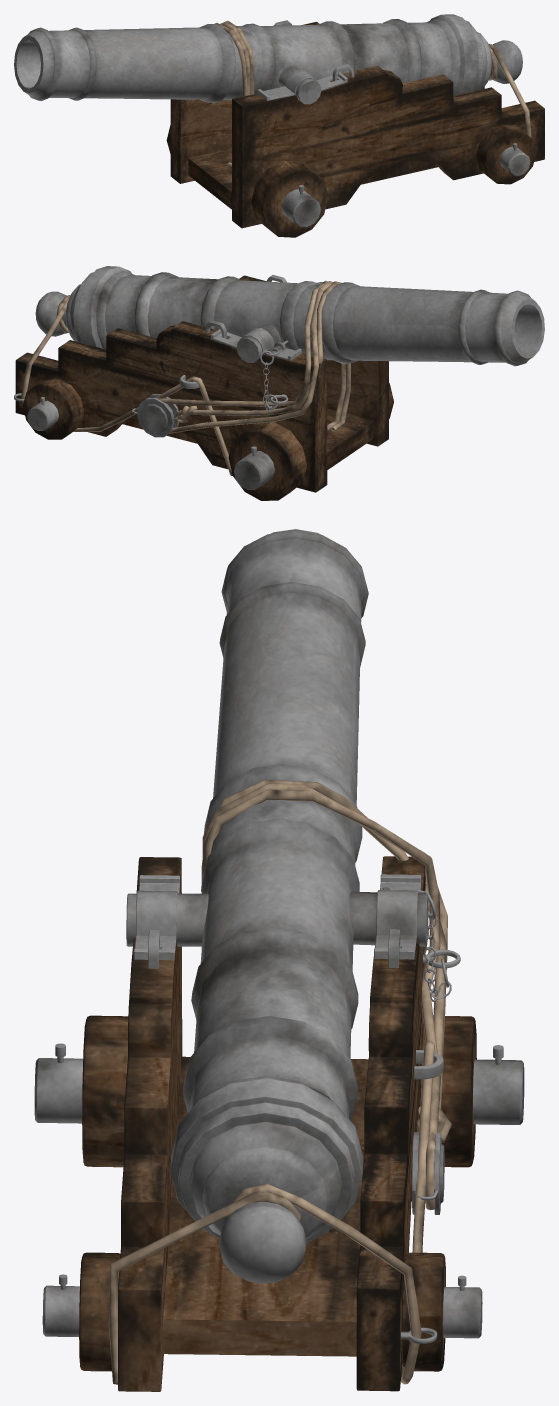
3 renders of one model, top to bottom at view 1: azimuth 30°, elevation 25°; view 2: azimuth 150°, elevation 25°; view 3: azimuth 270°, elevation 25°, orthographic. The views are drawn at different scales.
Visible parts, largest first — view 1: SM_Canon; view 2: SM_Canon; view 3: SM_Canon.
Part boxes in pixels (bbox=[...]): SM_Canon: bbox=[14, 14, 544, 237]; SM_Canon: bbox=[14, 266, 544, 500]; SM_Canon: bbox=[34, 529, 524, 1391].
Bounding box in the file's own units: 274 × 117 × 119.
4 materials, 4 textured.
